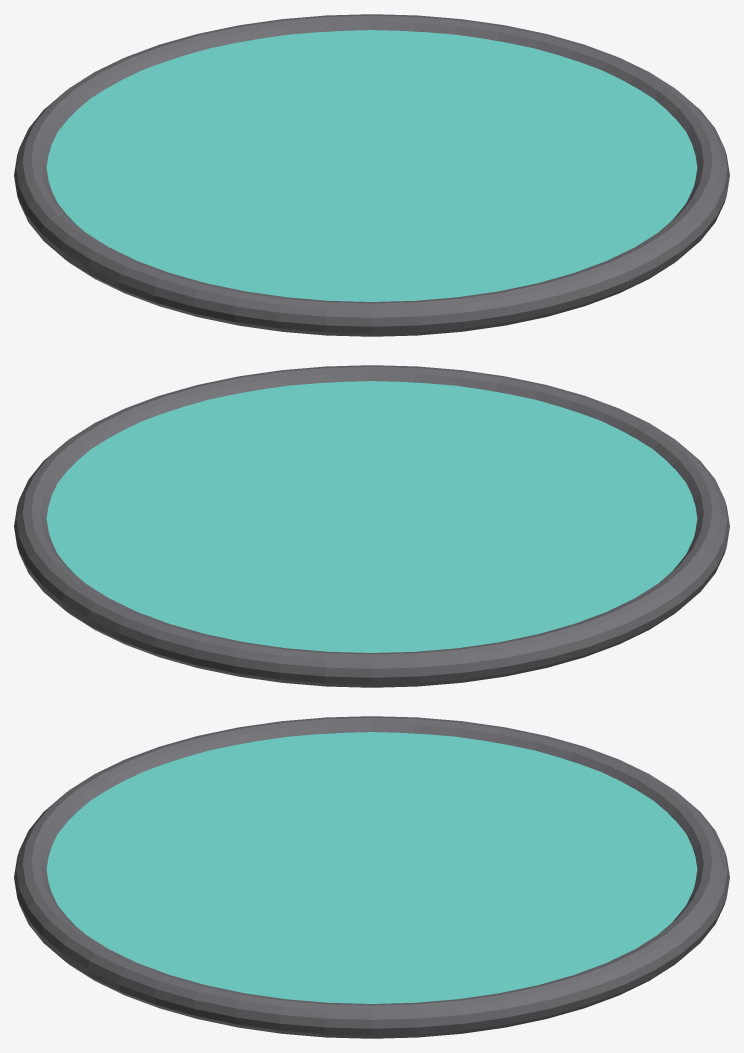
The model's file is Toy_SpawnPad_Teal.fbx.
3 views of the same model, one above another, from view 1: azimuth 30°, elevation 25°; view 2: azimuth 150°, elevation 25°; view 3: azimuth 270°, elevation 25° (orthographic).
Parts seen in each view (by area): view 1: Toy_SpawnPad_Teal; view 2: Toy_SpawnPad_Teal; view 3: Toy_SpawnPad_Teal.
Part boxes in pixels (box(x1,y1,x2,y2)): Toy_SpawnPad_Teal: box(14, 14, 729, 336); Toy_SpawnPad_Teal: box(14, 365, 729, 687); Toy_SpawnPad_Teal: box(14, 716, 729, 1038).
Size of the model in its own units: 1.64 by 0.08 by 1.64.
